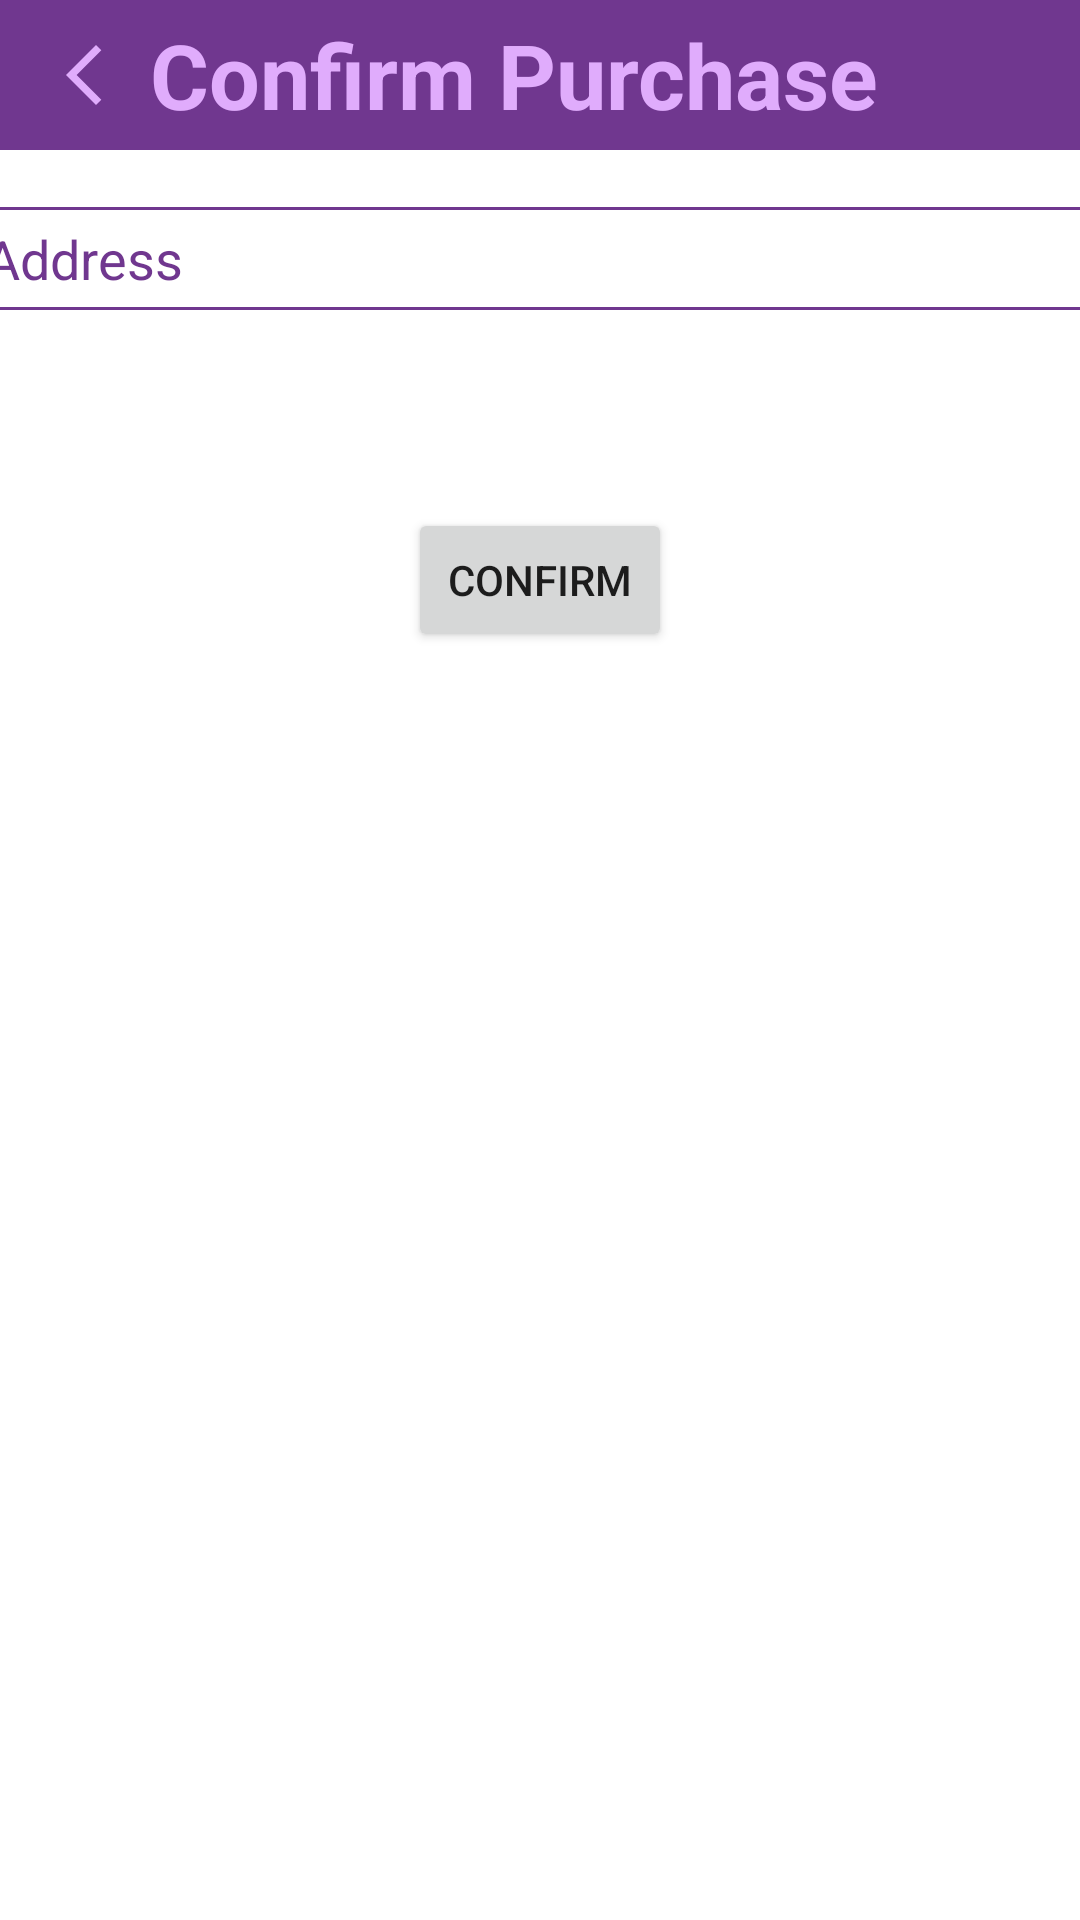

Icon bounding boxes for this 1080×1920 phone screenshot, format (x1, y1, x2, y2):
arrow back: (66, 45, 101, 105)
